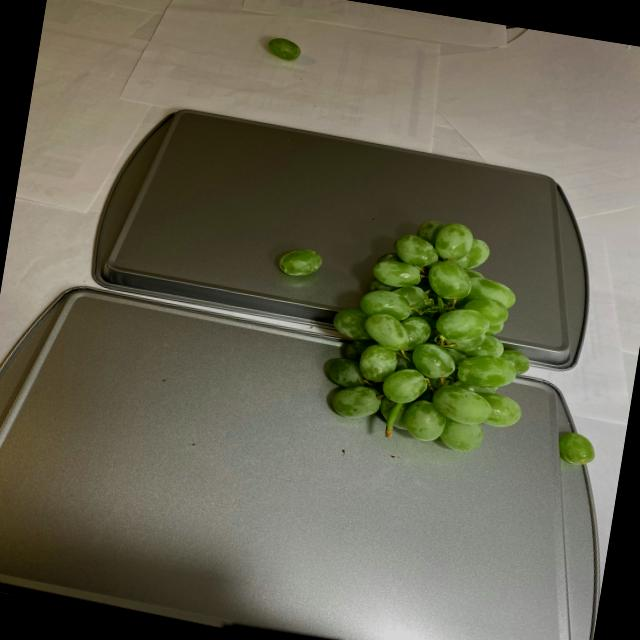grapes: (303, 204, 553, 467), (270, 245, 328, 285), (546, 429, 602, 467), (264, 35, 306, 62)
